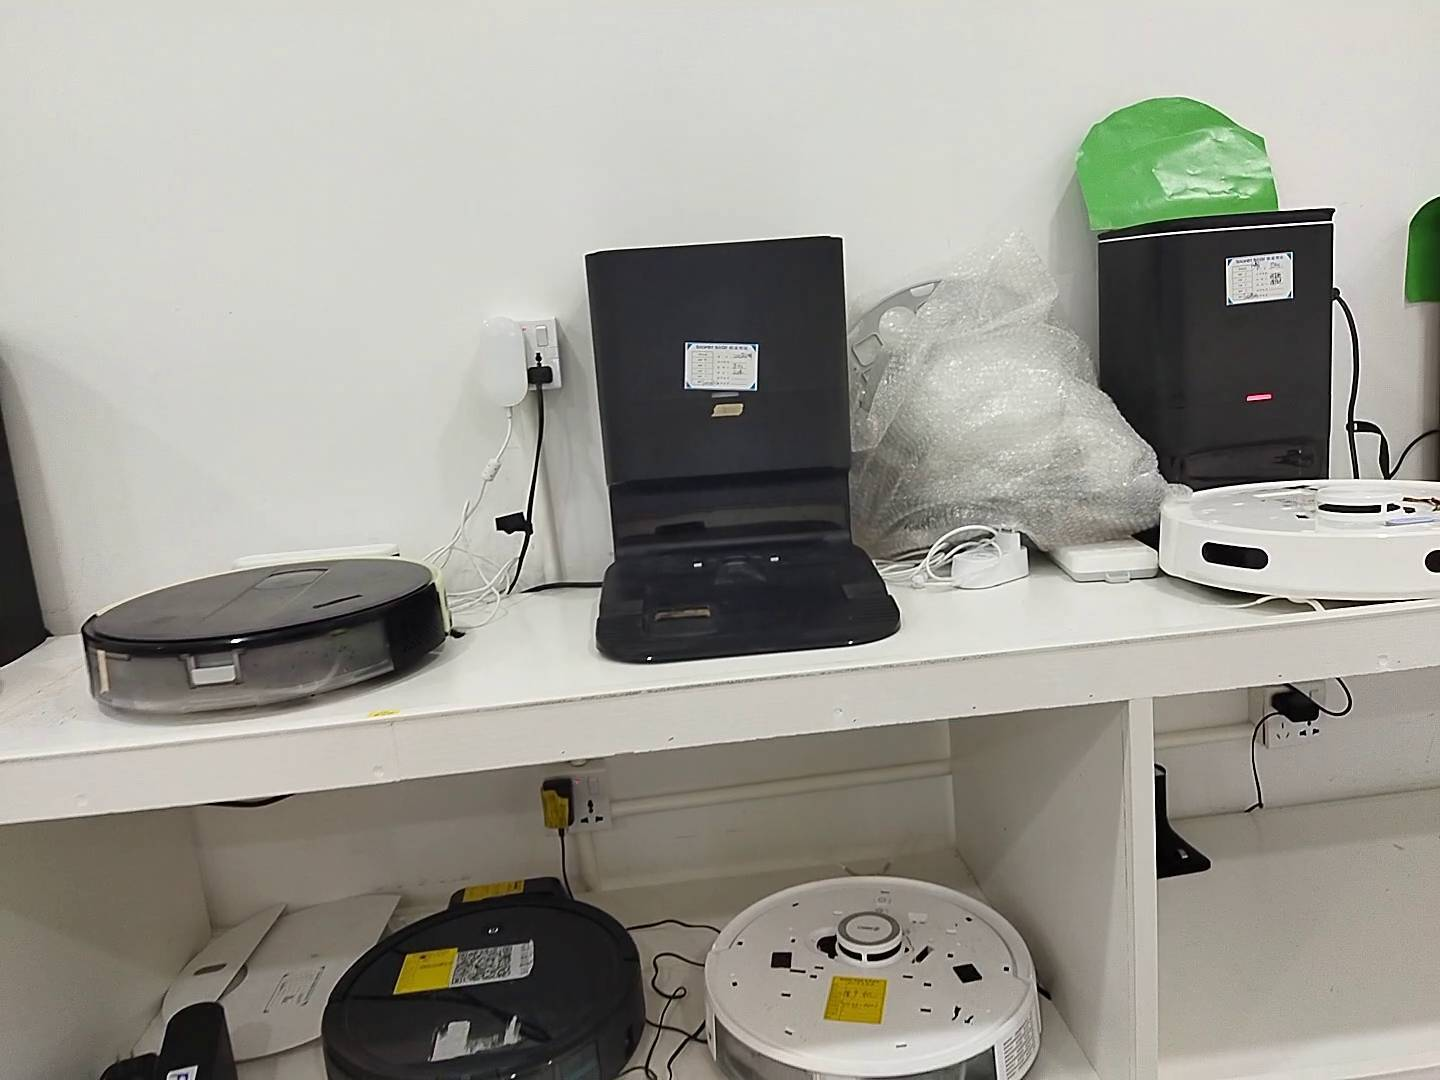dust collecting barrel: (585, 235, 903, 666), (1096, 208, 1335, 525)
